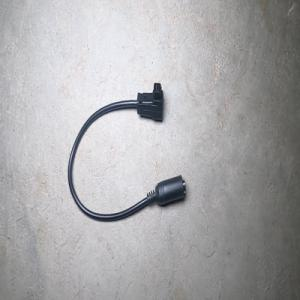Wire: (67, 82, 186, 221)
